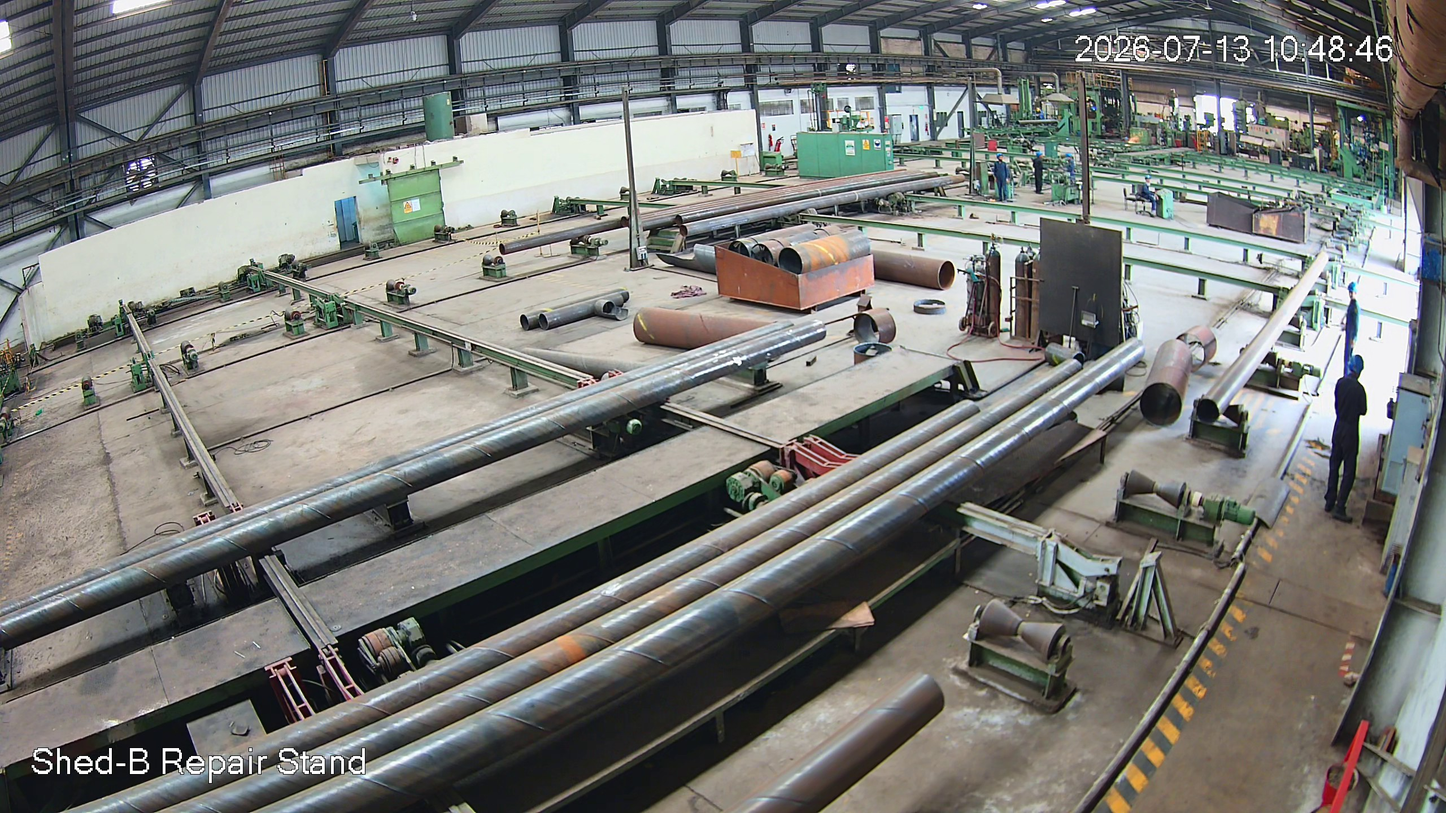Helmet: (1343, 349, 1370, 385)
Person: (1318, 353, 1372, 522)
